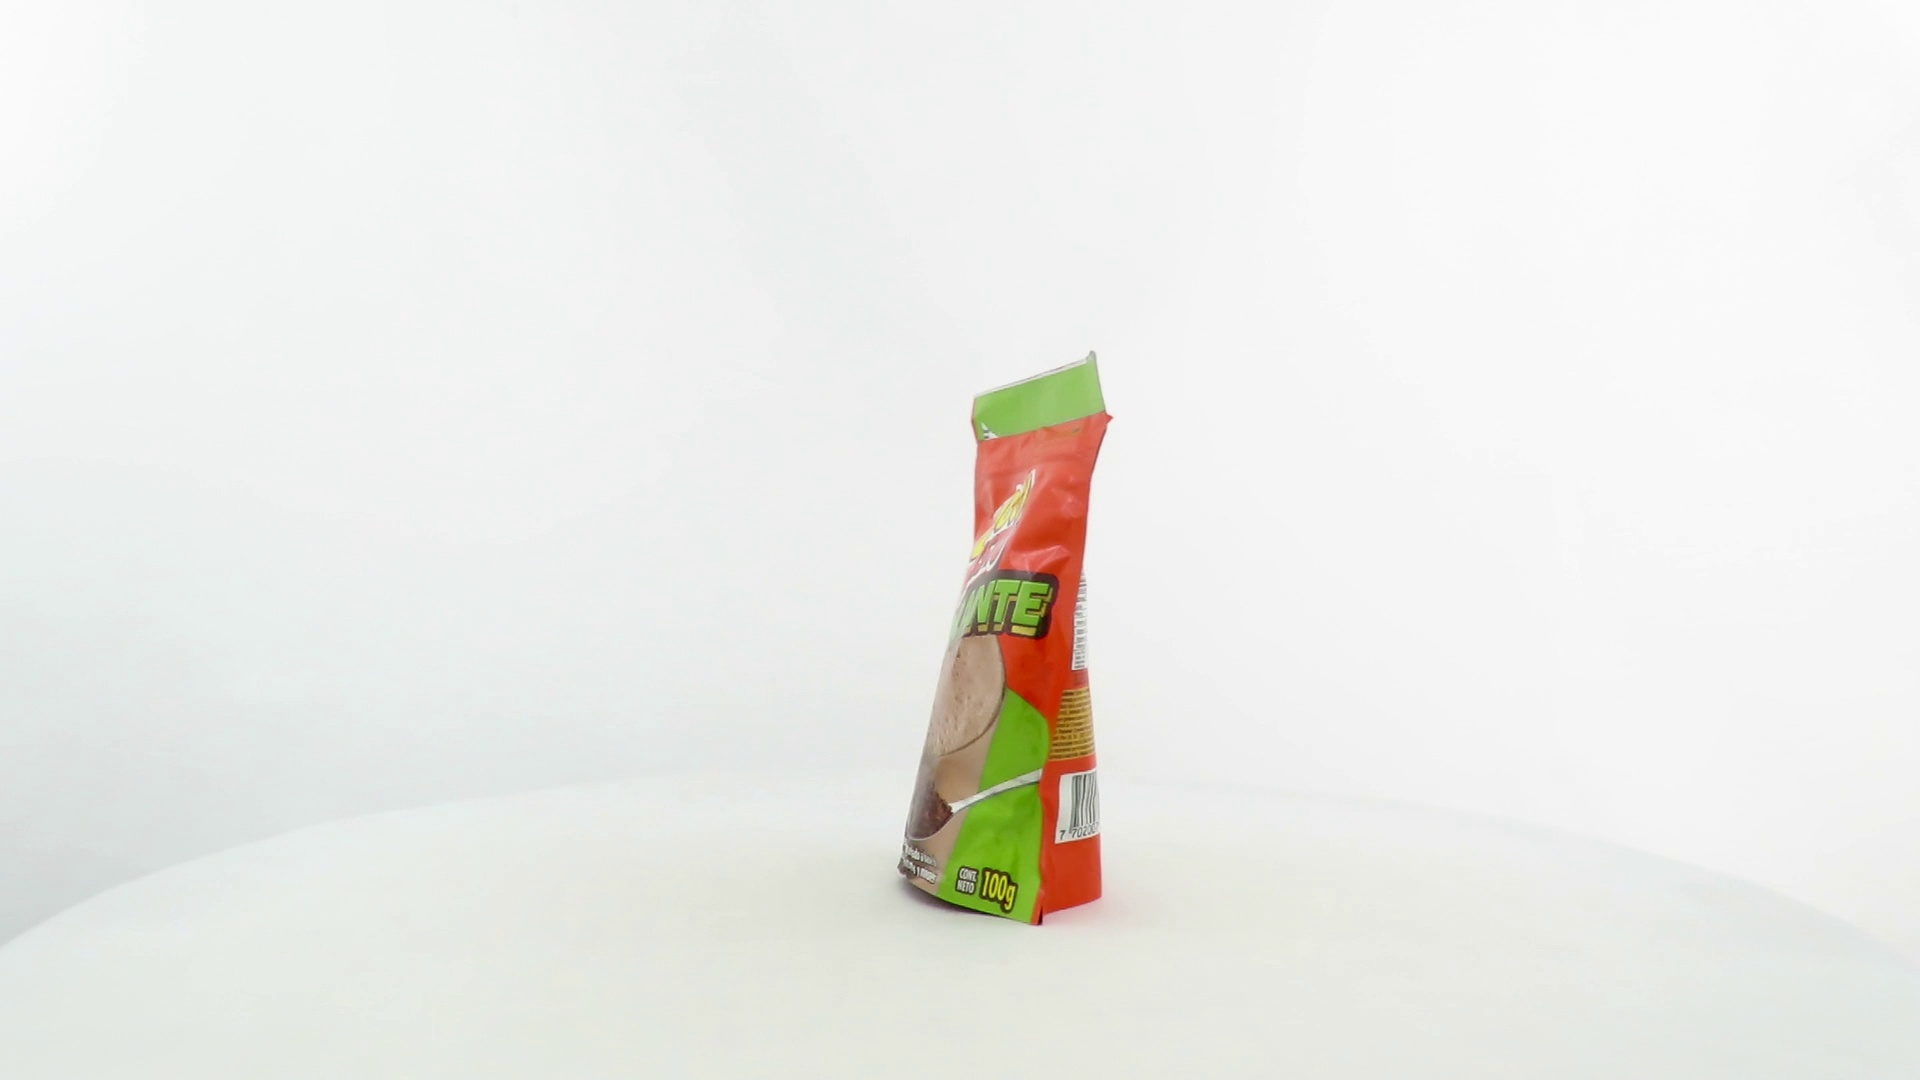COL0170102DYP10000: (891, 345, 1120, 932)
